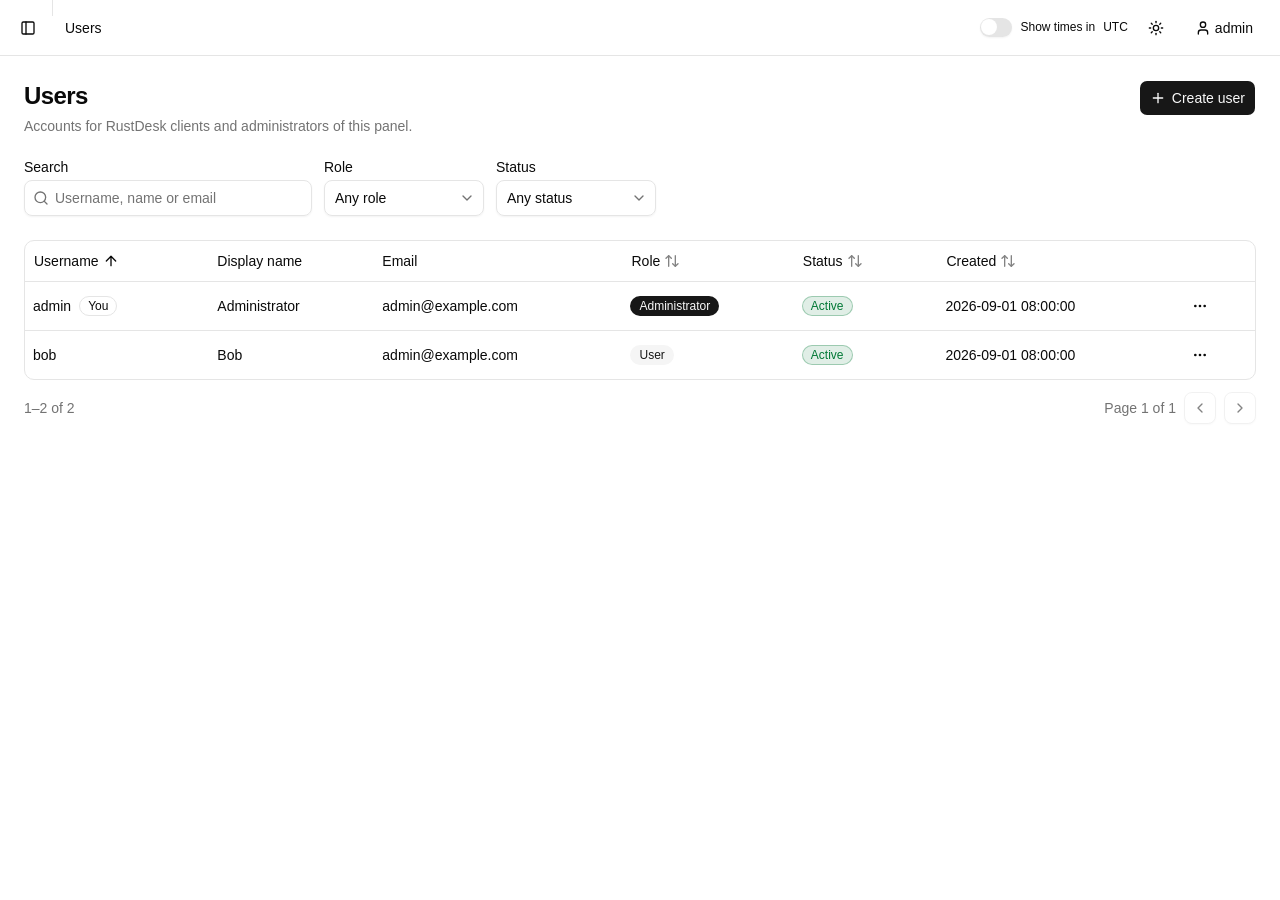
Test: users › does not let you demote, disable or delete yourself
The image size is (1280, 900).
Click the button named "Actions for admin": (1200, 306) [1184,290,1216,322]
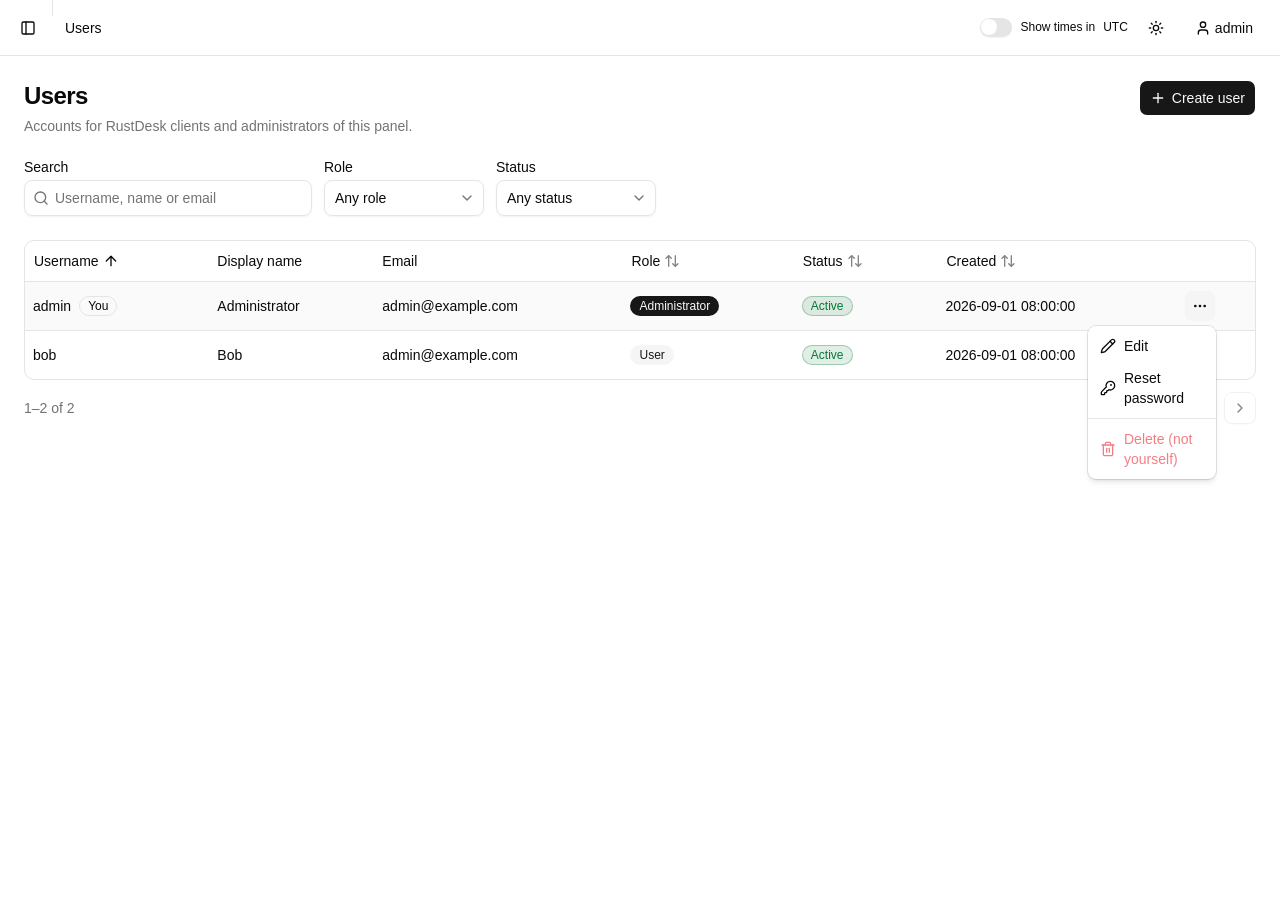
Click the menu item "Edit": (1124, 346) [1100,338,1148,354]
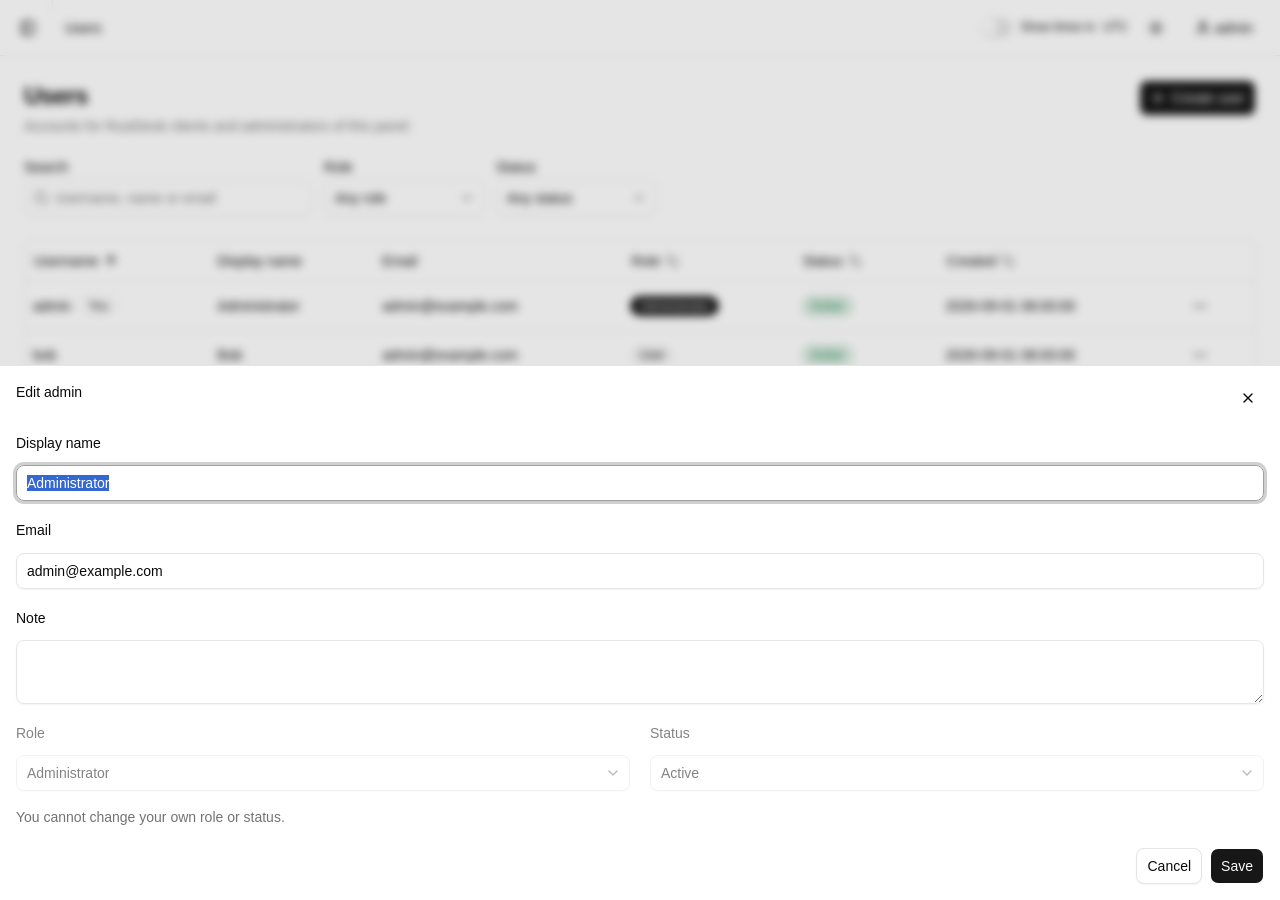
Result: the dropdown named "Role" is disabled at [16,755,630,791]
Result: the dropdown named "Status" is disabled at [650,755,1264,791]
Result: the text "You cannot change your own role or status." is shown at [16,809,285,825]
